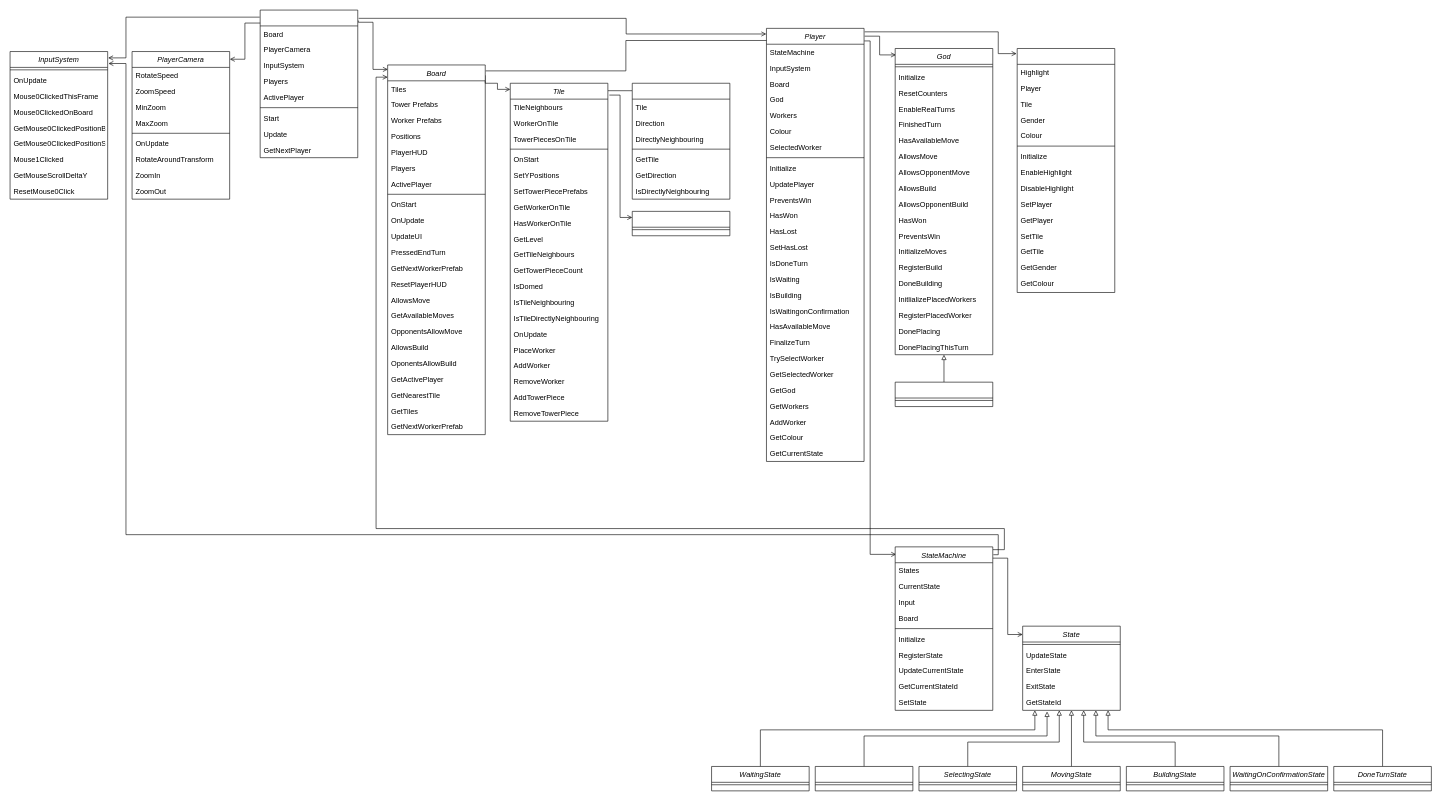
The diagram is 1441 pixels wide and 801 high, and some of its shapes have lost their labels. The box of each missing label's shape, as (x1, y1, x2, y2) in pixels:
BaseGod: (895, 382, 993, 407)
PlacingState: (815, 766, 913, 791)
Santorini: (260, 9, 358, 158)
TileNeighbour: (632, 83, 730, 199)
TowerPiece: (632, 211, 730, 236)
Worker: (1017, 48, 1115, 292)
